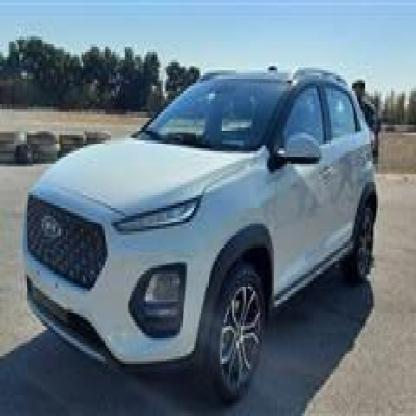Car: (23, 63, 380, 392)
